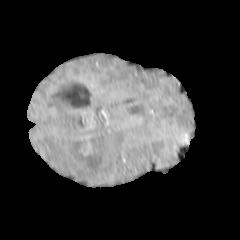glioma: (42, 108, 125, 179)
